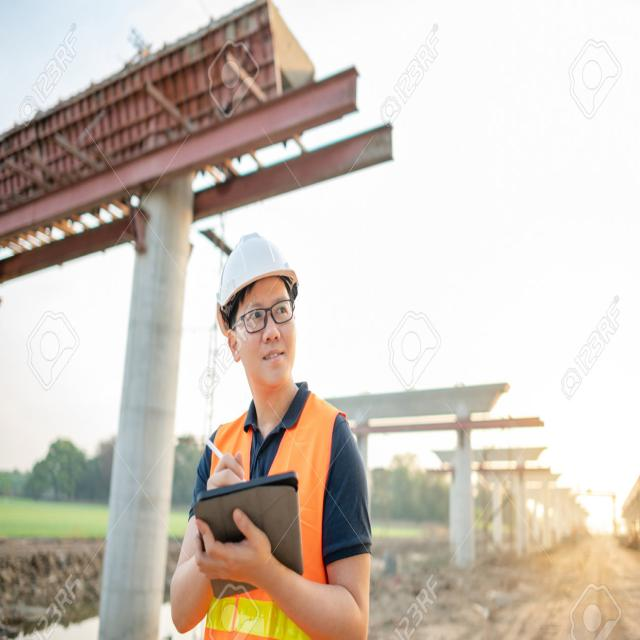helmet: (196, 215, 314, 308)
no-goggles: (228, 292, 297, 340)
vest: (185, 380, 364, 639)
